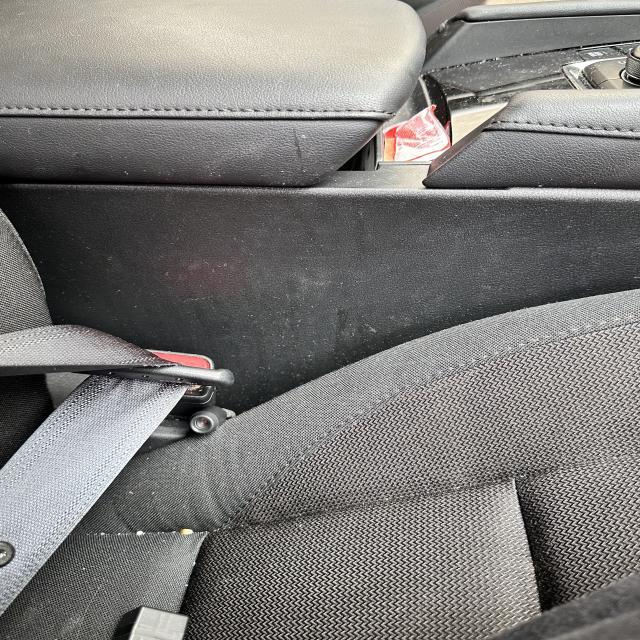hidden camera: (191, 415, 214, 434)
